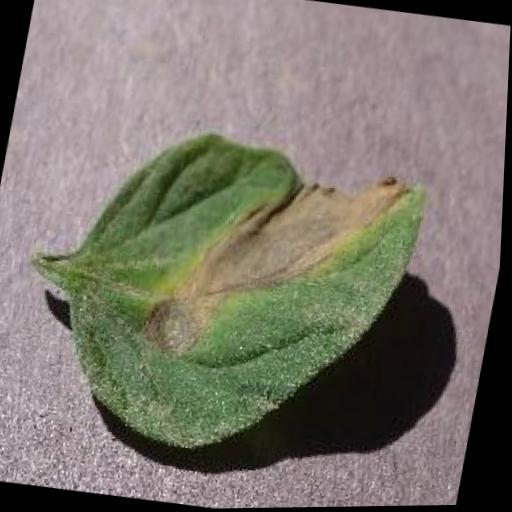Early Blight: (42, 113, 437, 474)
